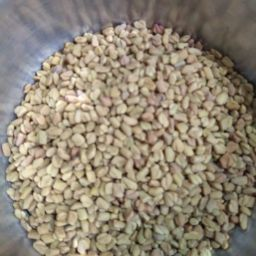Fenugeek (seeds): (142, 5, 256, 256), (9, 110, 256, 215), (14, 48, 253, 130), (96, 15, 168, 256), (53, 23, 97, 256), (5, 57, 49, 256)
